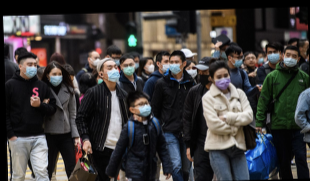with_mask: (212, 71, 231, 90), (102, 63, 120, 83), (21, 60, 38, 78), (135, 99, 152, 117), (282, 50, 298, 68), (48, 70, 62, 87), (168, 58, 182, 75), (195, 69, 209, 85), (266, 48, 280, 64), (184, 64, 198, 79), (120, 61, 134, 75), (231, 53, 243, 67), (89, 54, 101, 68), (159, 57, 169, 72), (143, 61, 155, 73), (110, 54, 122, 66), (255, 54, 264, 64)
without_mask: (244, 54, 256, 66)
